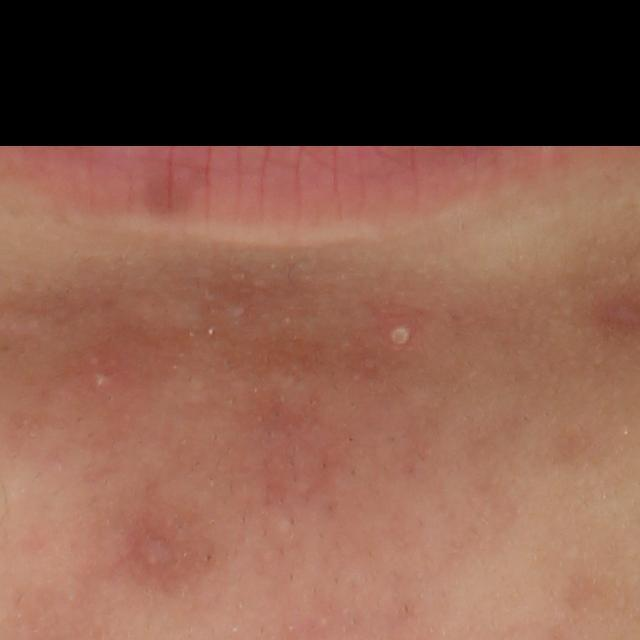pustule: (381, 315, 424, 356), (87, 368, 110, 393)
